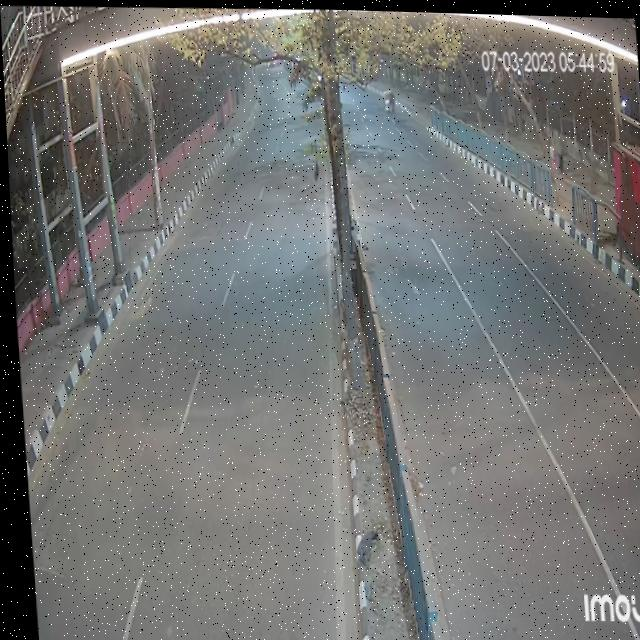rikshaw: (382, 86, 396, 126)
